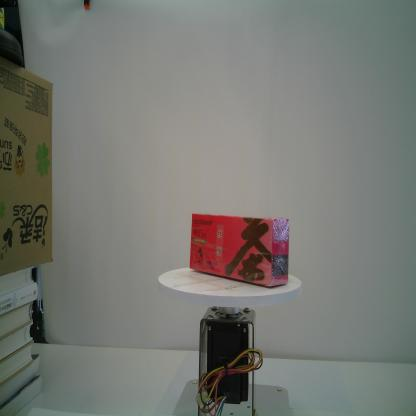Instant Drink: (190, 212, 290, 287)
